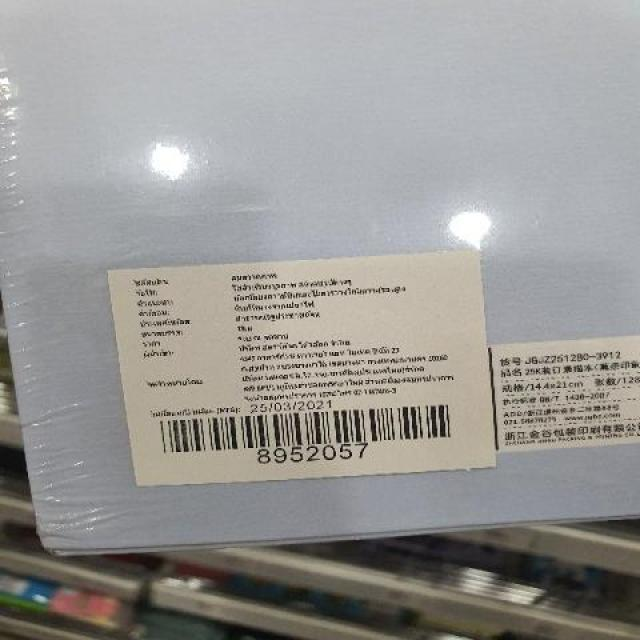Barcode: (144, 398, 472, 465)
